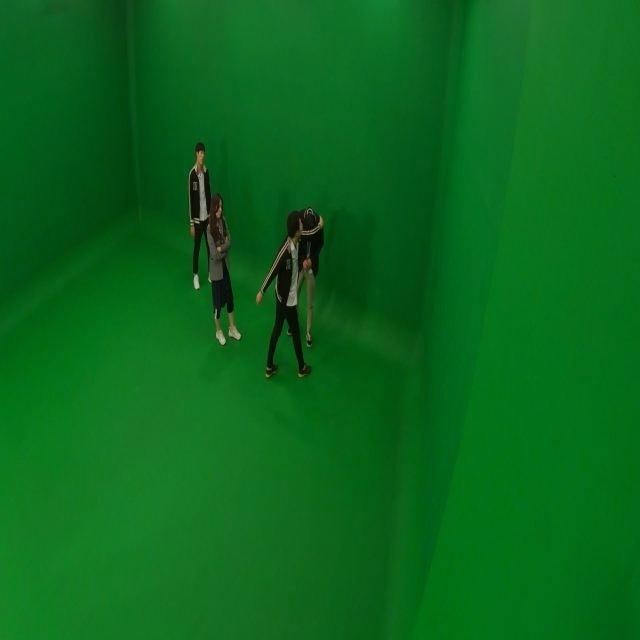fight: (252, 206, 324, 380)
non-fight: (205, 190, 245, 347), (185, 140, 218, 290)
